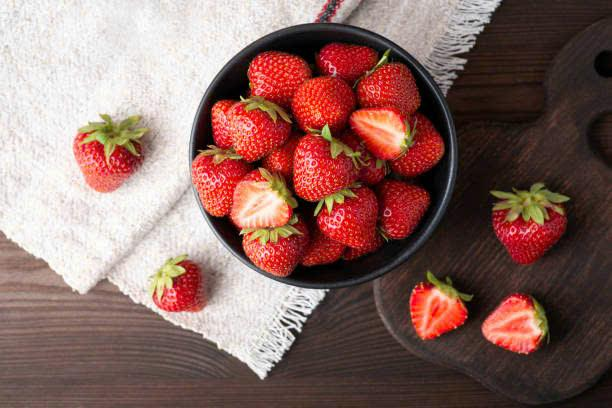strawberry: (484, 186, 581, 268), (78, 107, 150, 203), (314, 42, 406, 109), (320, 182, 418, 240), (165, 149, 247, 217), (149, 229, 213, 316), (241, 158, 305, 238), (480, 286, 548, 353), (219, 91, 287, 155), (303, 124, 355, 202), (238, 46, 307, 102), (347, 105, 418, 158), (298, 74, 356, 134), (406, 277, 462, 336)
